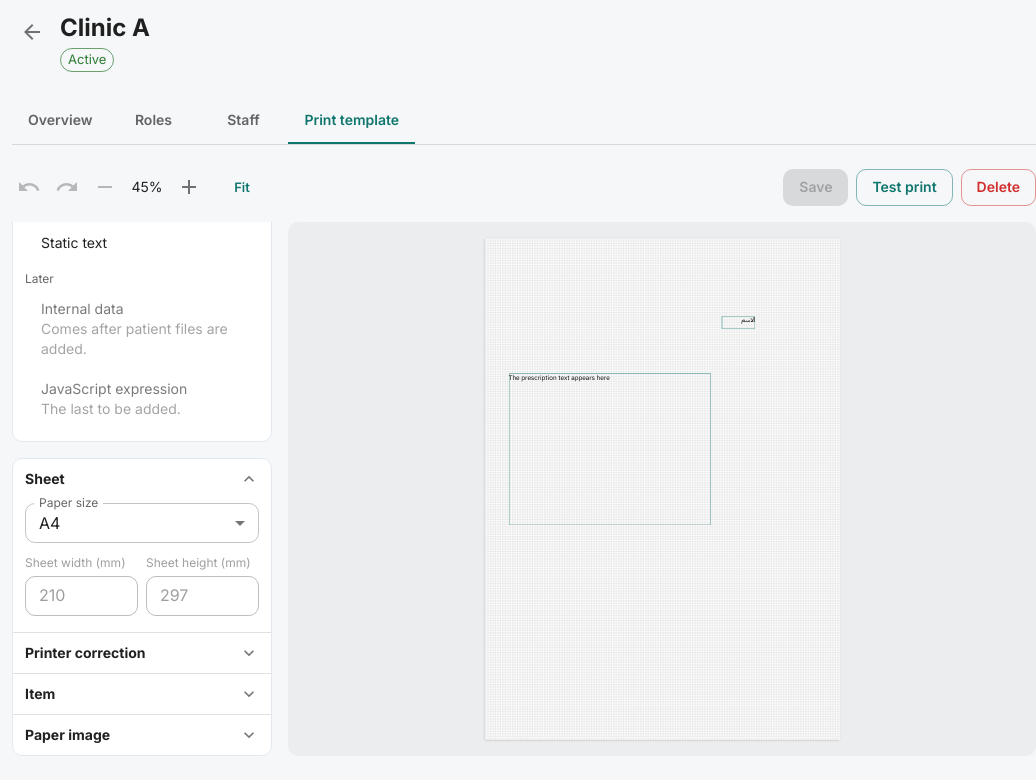
it: print template: the paper size @area:admin › to a smaller size: an item that would fall off comes back, X 128, its width kept; items inside don't move @TPL-047
This screenshot has width=1036, height=780.
(page scrolled)
What coordinates should you click on to do the following:
click the dropdown labelled "A4"
I would click on:
 (50, 523)
Its box is [39,513,60,533].
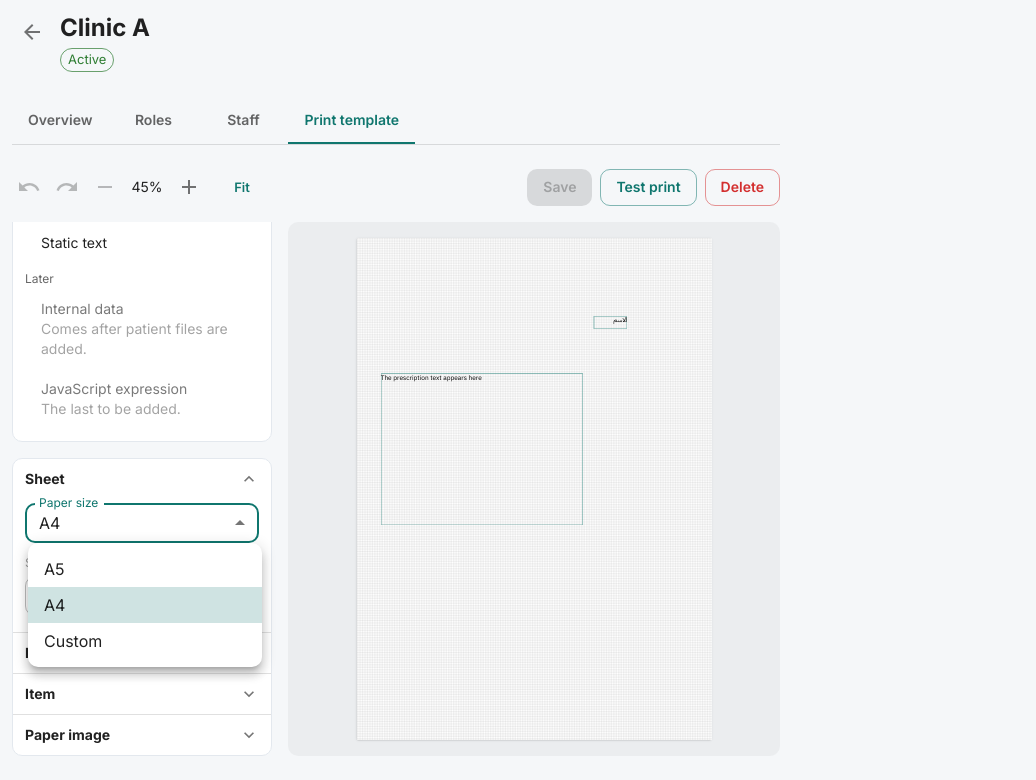
What coordinates should you click on to do the following:
click the option "A5"
I would click on:
 (54, 569)
Its box is [44,559,64,579].
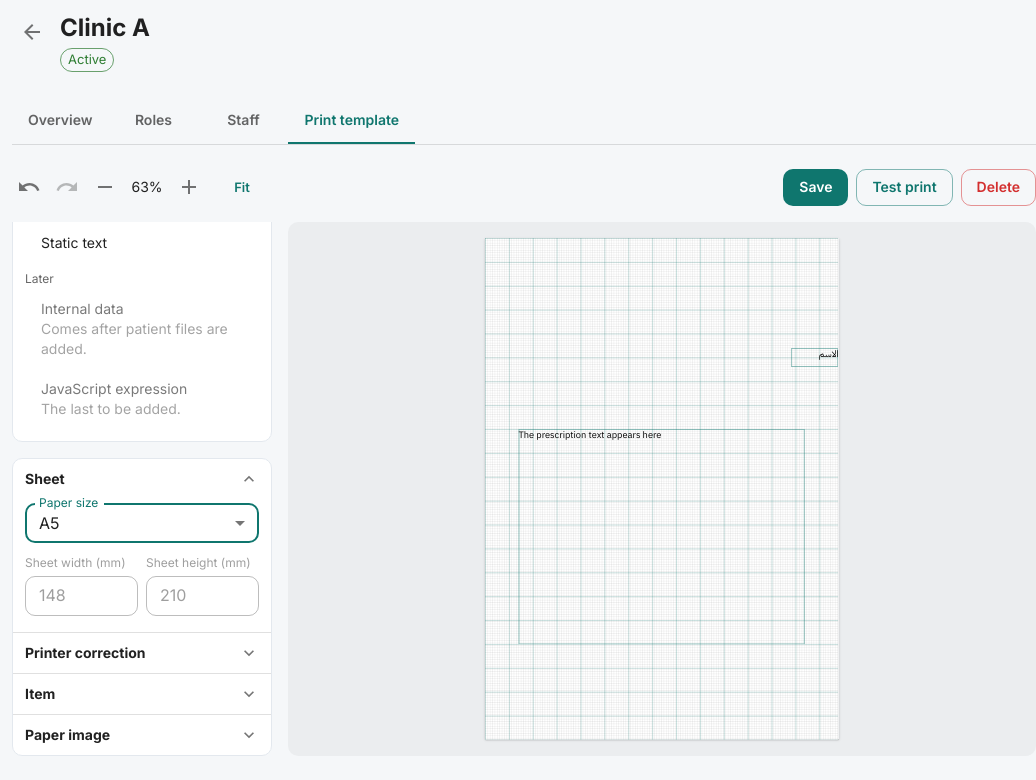
expect the list "A5 A4 Custom" is gone: met
